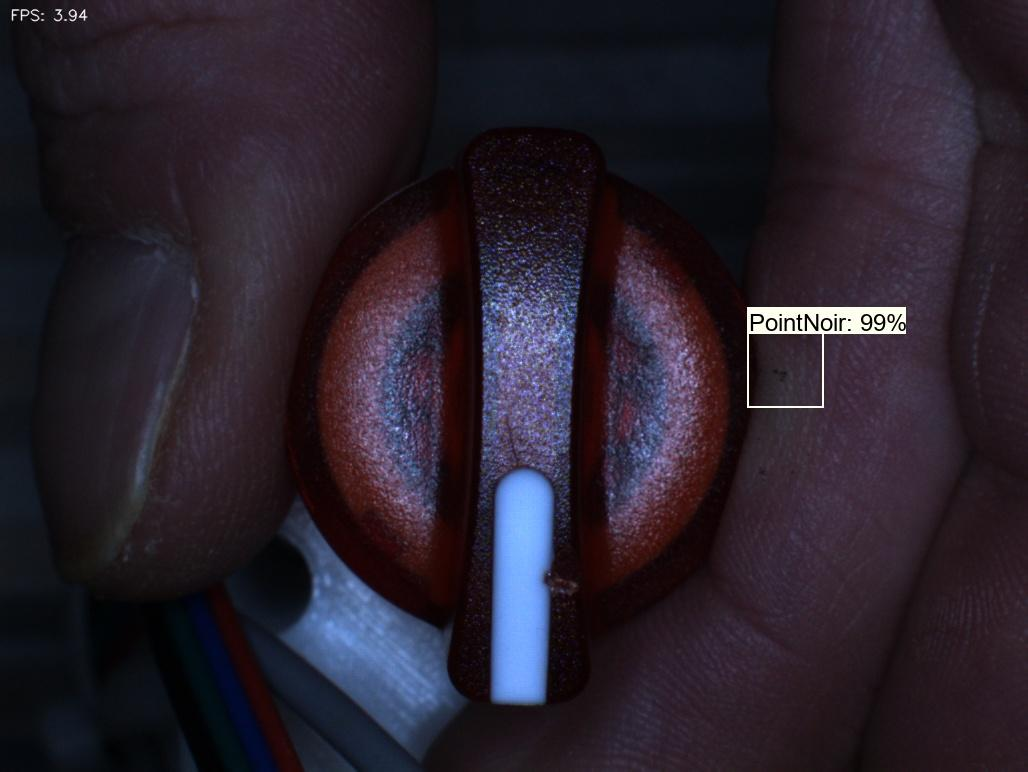Choc: (528, 539, 606, 623)
